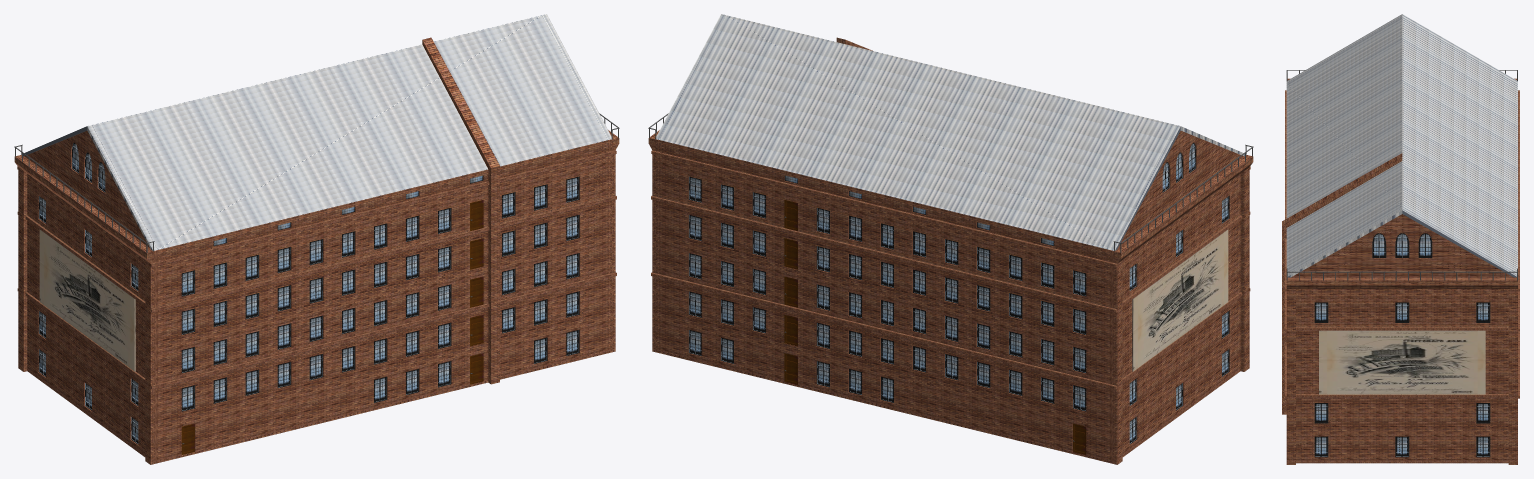
The model's file is Мельница Гергардта(текстуры) 5.10.glb.
3 renders of one model, left to right at view 1: azimuth 30°, elevation 25°; view 2: azimuth 150°, elevation 25°; view 3: azimuth 270°, elevation 25°, orthographic. The views are drawn at different scales.
Parts seen in each view (by area): view 1: Cube.004, Cube.002, Cube.009, Cube.164, Cube.149, Cube.005, Cube.171, Cube.165, Cube.166, Cube.167, Cube, Cube.006 (+1 smaller); view 2: Cube.004, Cube.002, Cube.009, Cube.164, Cube.005, Cube.168, Cube.170, Cube.169, Cube.171, Cube, Cube.006, Cube.173; view 3: Cube.004, Cube.006, Cube.177, Cube.001, Cube.164, Cube.172, Cube.149, Cube.175, Cube.176, Cylinder.001, Cube, Cube.168 (+12 smaller).
Part boxes in pixels (left/top/right/bottom): Cube.004: left=21, top=14, right=611, bottom=460; Cube.002: left=27, top=174, right=157, bottom=461; Cube.009: left=39, top=229, right=135, bottom=371; Cube.164: left=18, top=154, right=615, bottom=464; Cube.149: left=422, top=37, right=499, bottom=384; Cube.005: left=24, top=131, right=157, bottom=251; Cube.171: left=14, top=155, right=154, bottom=263; Cube.165: left=150, top=150, right=616, bottom=267; Cube.166: left=151, top=196, right=616, bottom=312; Cube.167: left=151, top=272, right=616, bottom=389; Cube: left=27, top=350, right=611, bottom=463; Cube.006: left=608, top=139, right=611, bottom=351; Cube.004: left=656, top=14, right=1246, bottom=460; Cube.002: left=1110, top=174, right=1240, bottom=461; Cube.009: left=1132, top=229, right=1228, bottom=371; Cube.164: left=652, top=154, right=1249, bottom=464; Cube.005: left=1110, top=131, right=1243, bottom=251; Cube.168: left=651, top=150, right=1117, bottom=267; Cube.170: left=651, top=272, right=1116, bottom=389; Cube.169: left=651, top=196, right=1116, bottom=312; Cube.171: left=1113, top=155, right=1253, bottom=263; Cube: left=656, top=350, right=1240, bottom=463; Cube.006: left=656, top=139, right=659, bottom=351; Cube.173: left=1122, top=215, right=1242, bottom=305; Cube.004: left=1286, top=14, right=1517, bottom=277; Cube.006: left=1296, top=289, right=1508, bottom=461; Cube.177: left=1319, top=330, right=1485, bottom=394; Cube.001: left=1291, top=214, right=1512, bottom=277; Cube.164: left=1286, top=289, right=1517, bottom=464; Cube.172: left=1286, top=277, right=1517, bottom=288; Cube.149: left=1282, top=153, right=1402, bottom=414; Cube.175: left=1296, top=327, right=1508, bottom=330; Cube.176: left=1296, top=394, right=1508, bottom=397; Cylinder.001: left=1286, top=268, right=1517, bottom=280; Cube: left=1296, top=461, right=1508, bottom=463; Cube.168: left=1518, top=90, right=1519, bottom=291.
Size of the model in its own units: 103 by 61.47 by 51.4.
11 materials, 10 textured.
